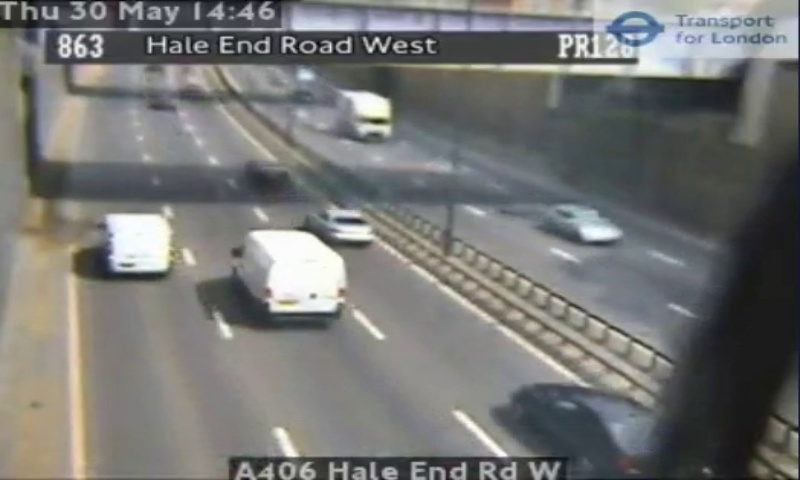car: (514, 386, 656, 463), (305, 209, 377, 242)
van: (232, 229, 346, 321), (102, 213, 174, 274)
